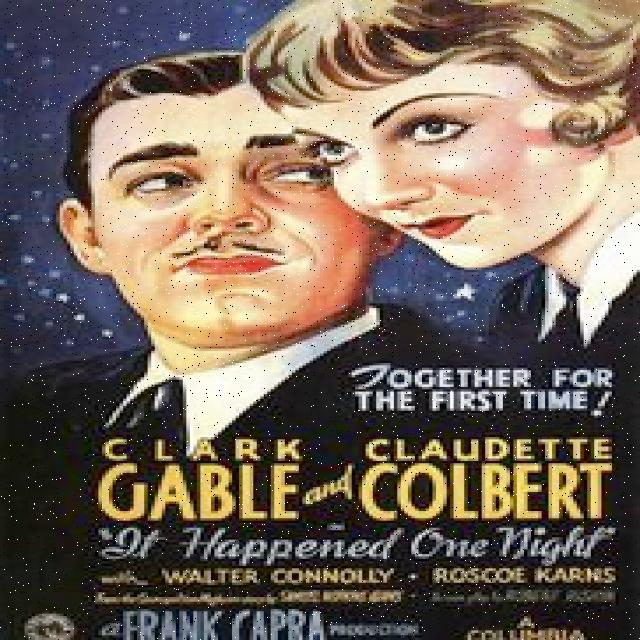movie-judul: (89, 432, 634, 566)
picture: (11, 1, 640, 425)
